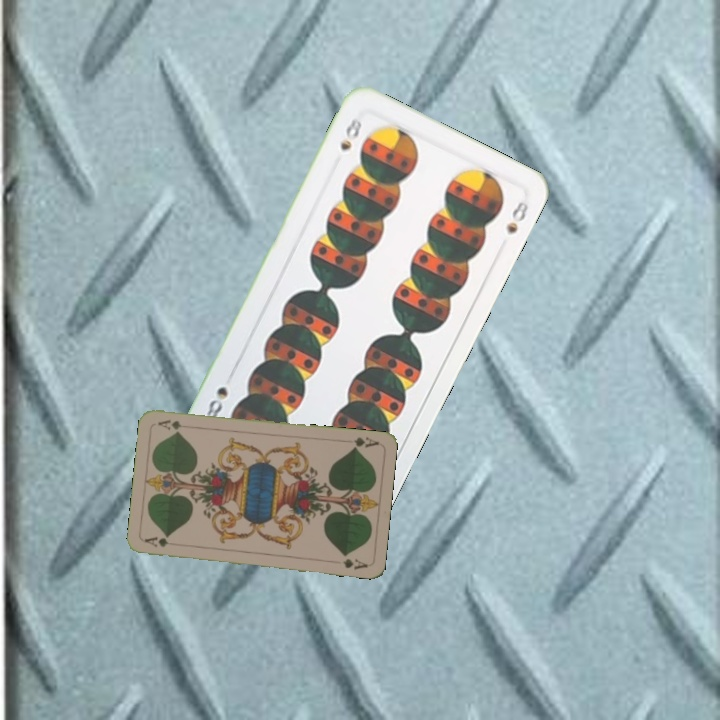GA: (141, 533, 182, 549), (348, 433, 381, 452)
S8: (335, 113, 365, 154)
